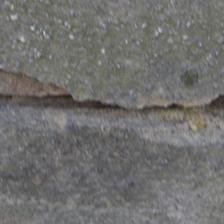Crack: (2, 33, 221, 100)
